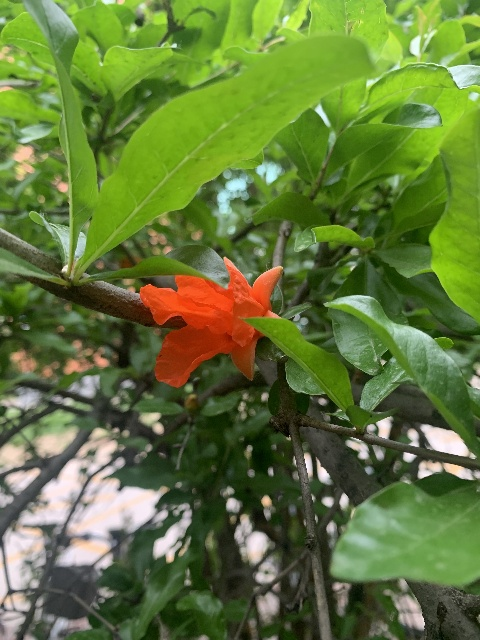flower: (139, 255, 284, 386)
